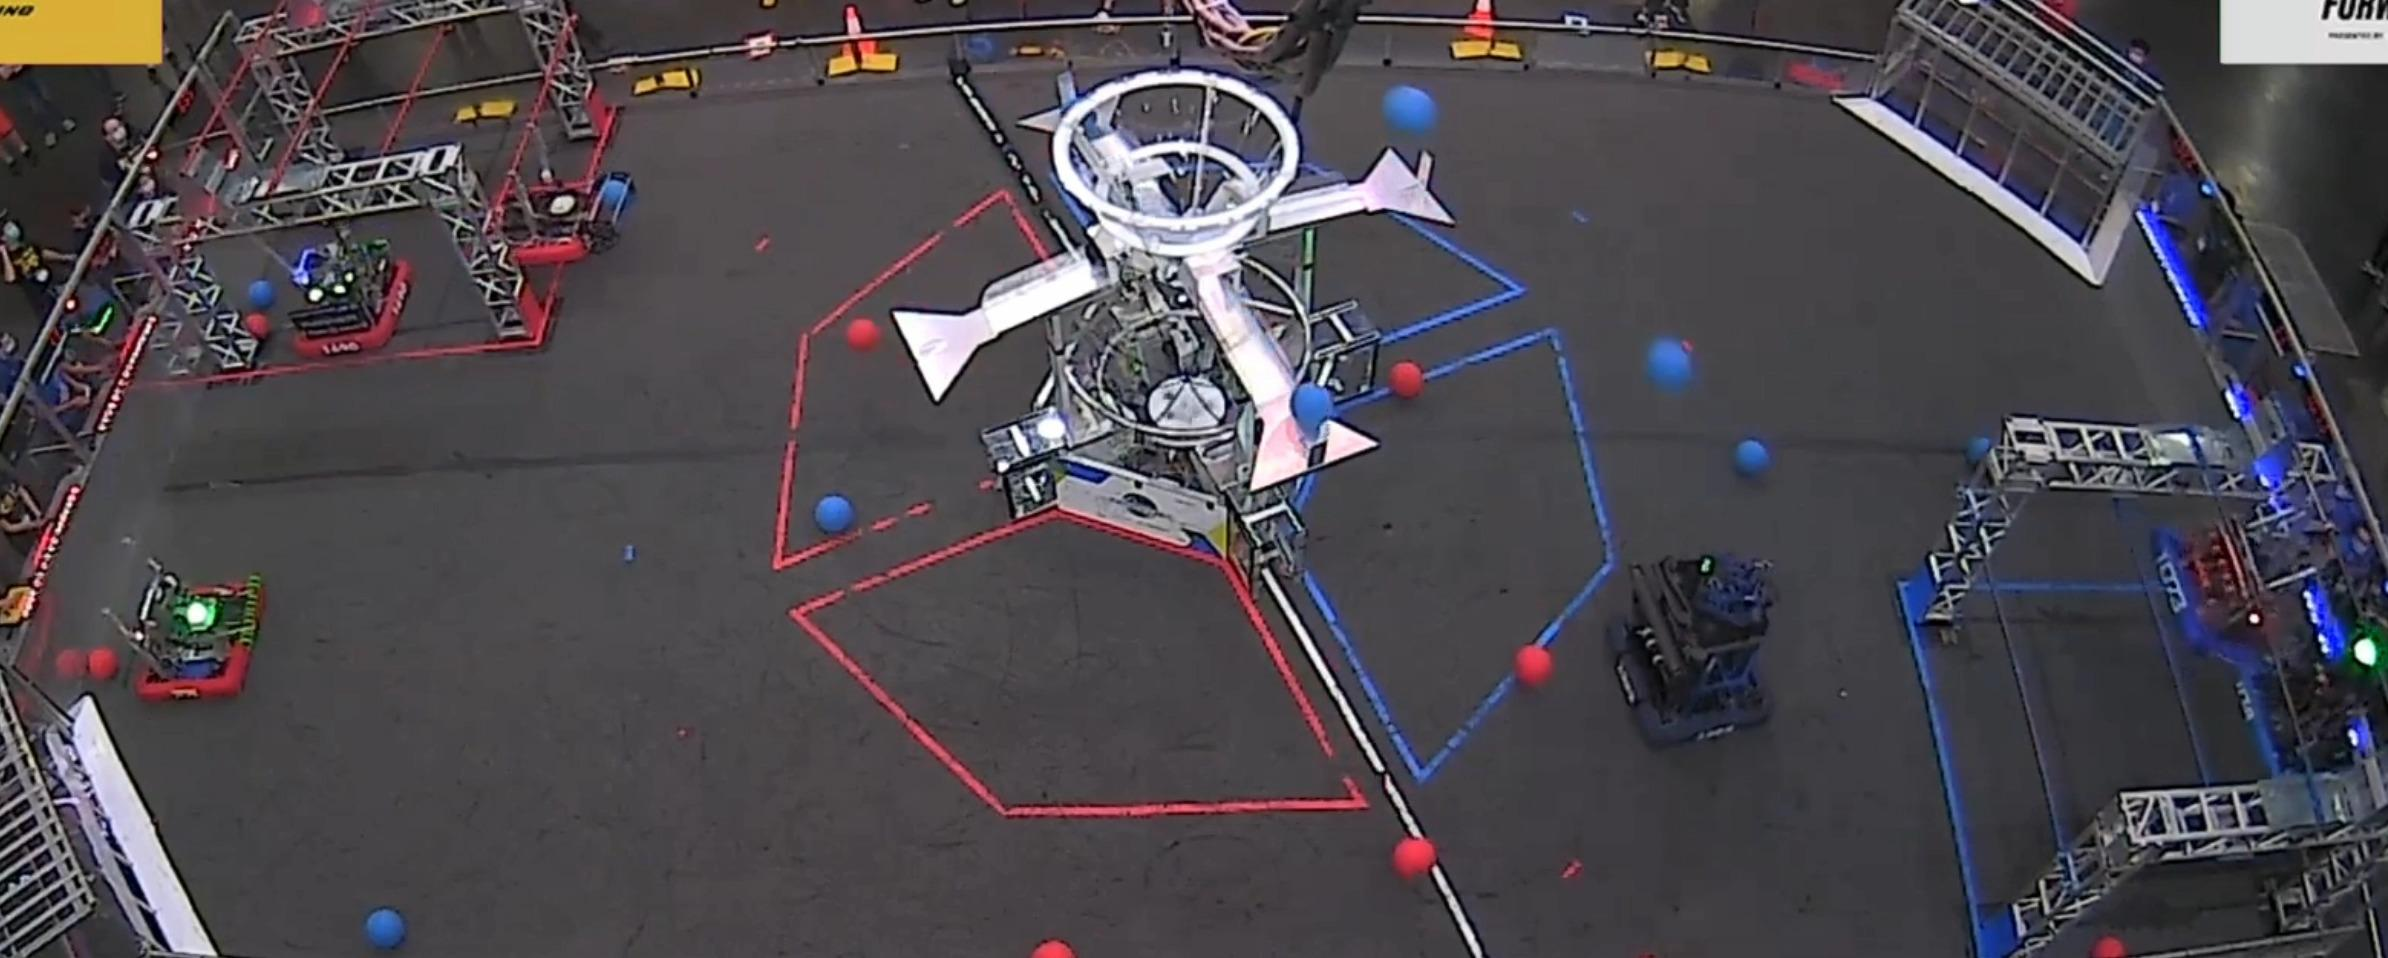Robots: (1607, 548, 1777, 746), (2158, 506, 2371, 624), (2249, 620, 2388, 772), (131, 568, 262, 702), (286, 241, 413, 358), (504, 171, 629, 265)
